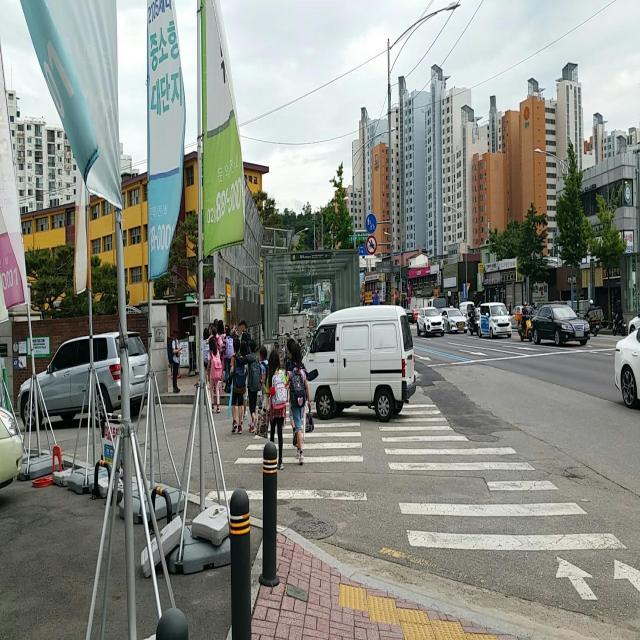횡단보도: (201, 397, 640, 608)
